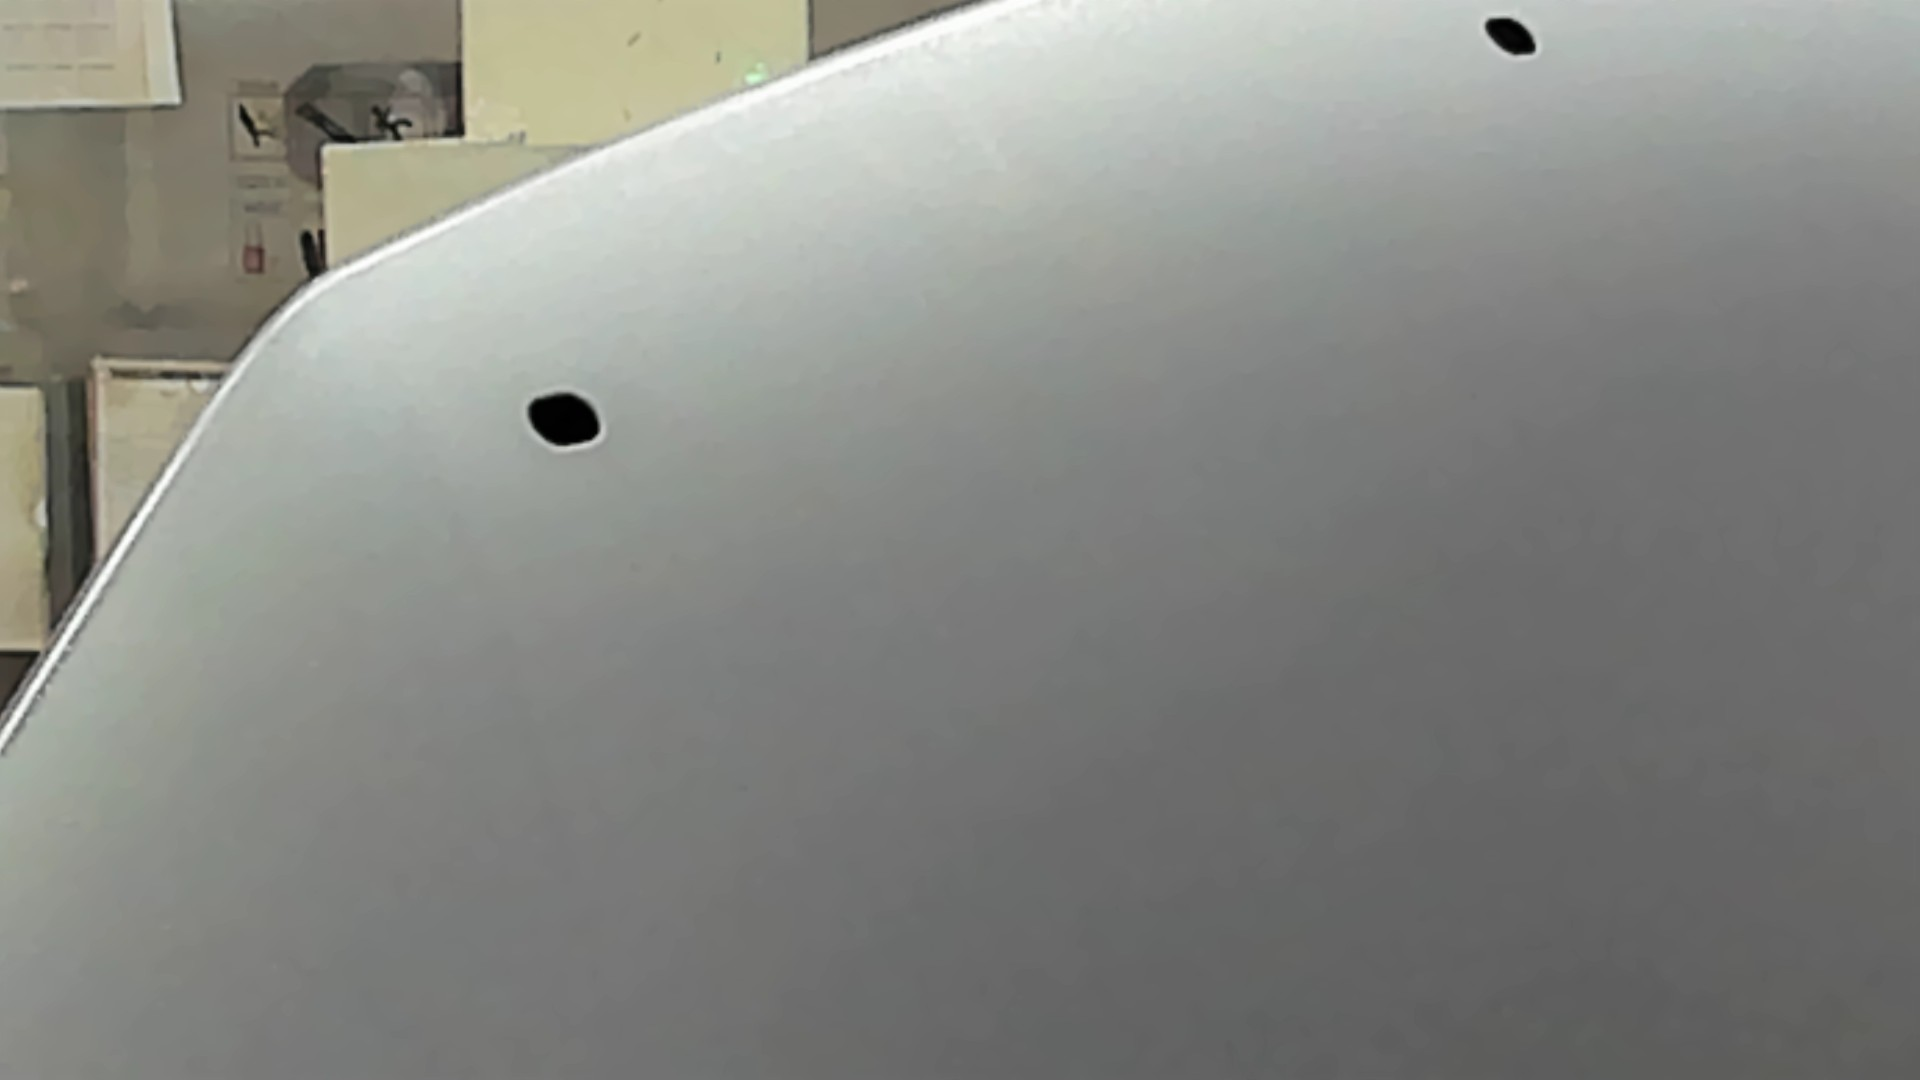chico: (521, 377, 605, 458), (1474, 7, 1549, 65)
